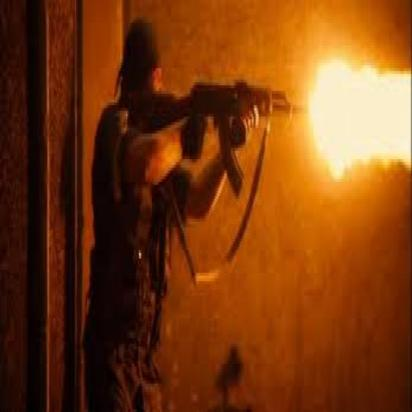Gun: (140, 77, 308, 212)
